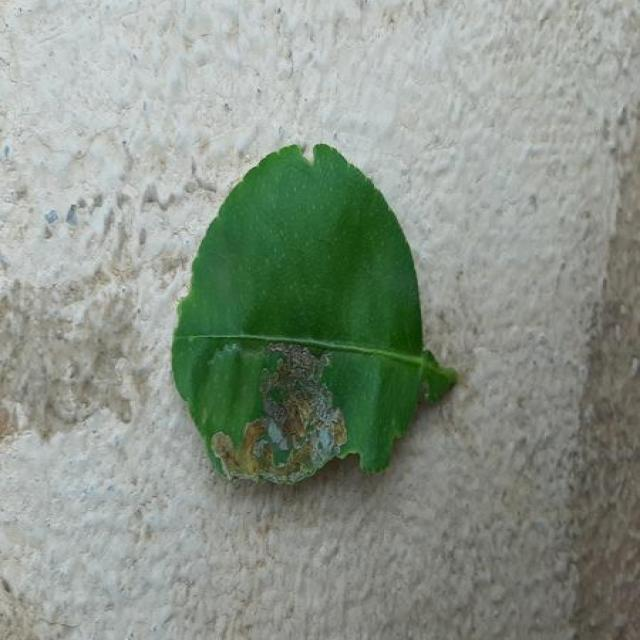bacterial blast: (212, 342, 347, 483)
lemon: (172, 144, 457, 483)
